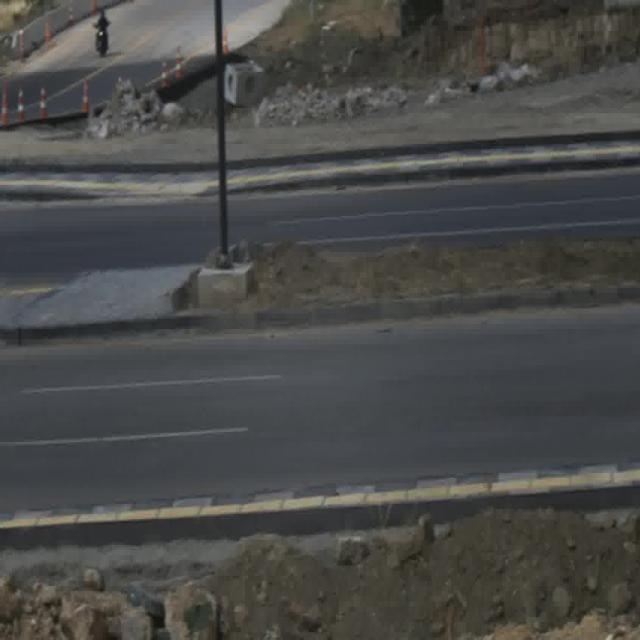Motorcycle: (92, 11, 113, 58)
